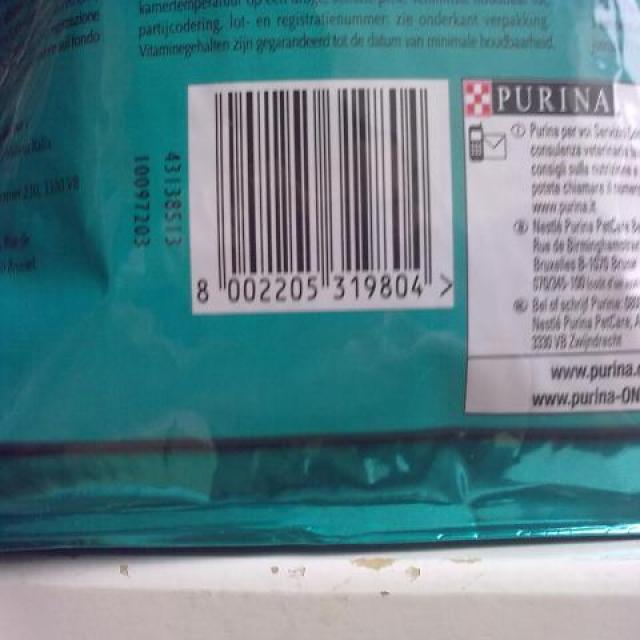Barcode: (188, 75, 456, 316)
